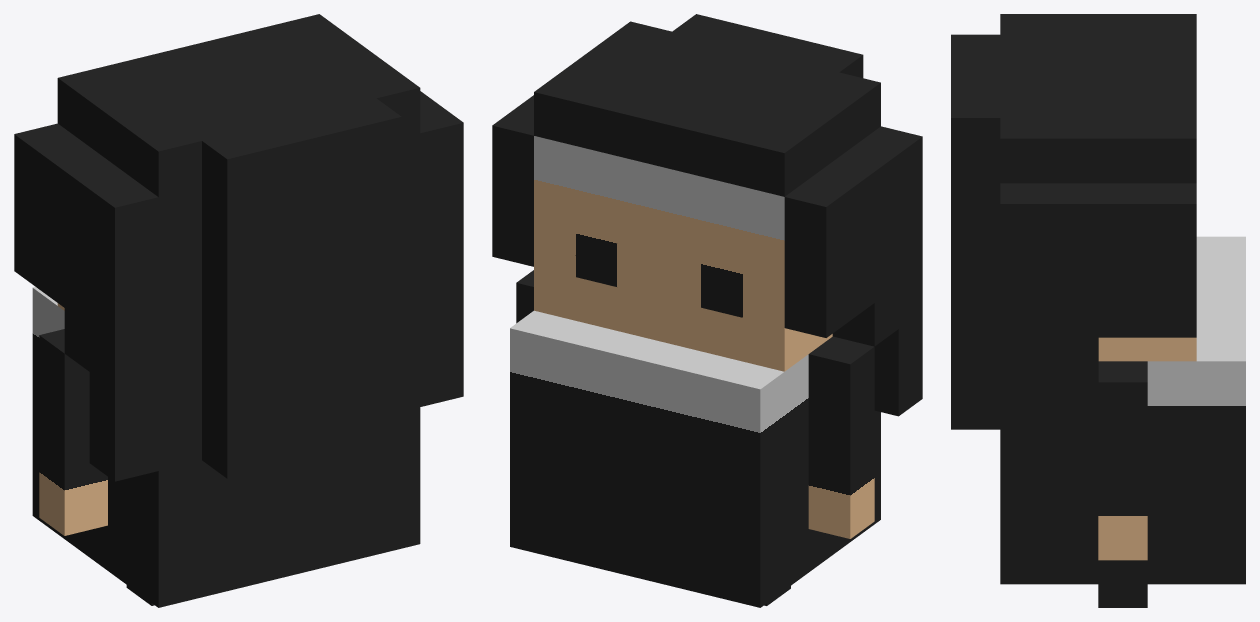
File: chr_nun.dae
3 views of the same model, side by side, from view 1: azimuth 30°, elevation 25°; view 2: azimuth 150°, elevation 25°; view 3: azimuth 270°, elevation 25° (orthographic). The views are drawn at different scales.
Visible parts, largest first — view 1: chr_nun; view 2: chr_nun; view 3: chr_nun.
Part boxes in pixels (bbox=[...]): chr_nun: bbox=[14, 14, 463, 607]; chr_nun: bbox=[492, 14, 922, 607]; chr_nun: bbox=[951, 14, 1245, 607].
Size of the model in its own units: 0.8 by 0.6 by 1.1.
